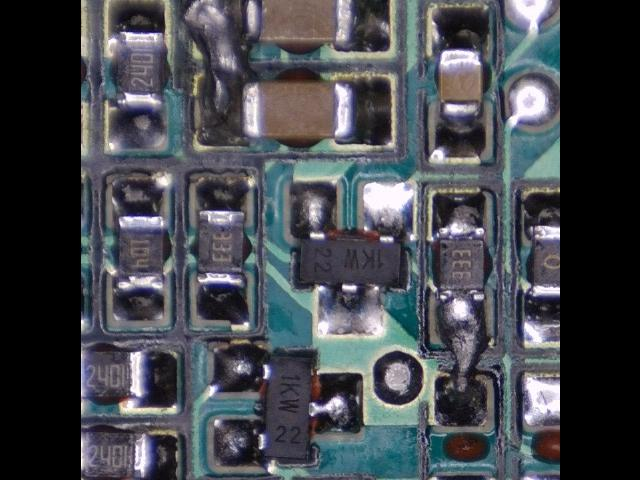Short_circuit: (183, 1, 262, 148), (434, 290, 488, 428)
